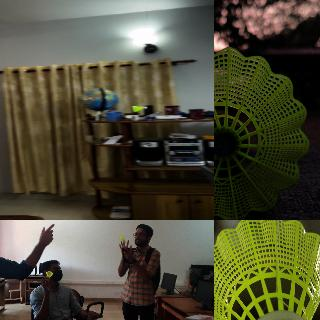shuttlecock: (214, 47, 309, 219), (214, 220, 319, 319), (132, 106, 146, 111), (46, 271, 52, 279)
